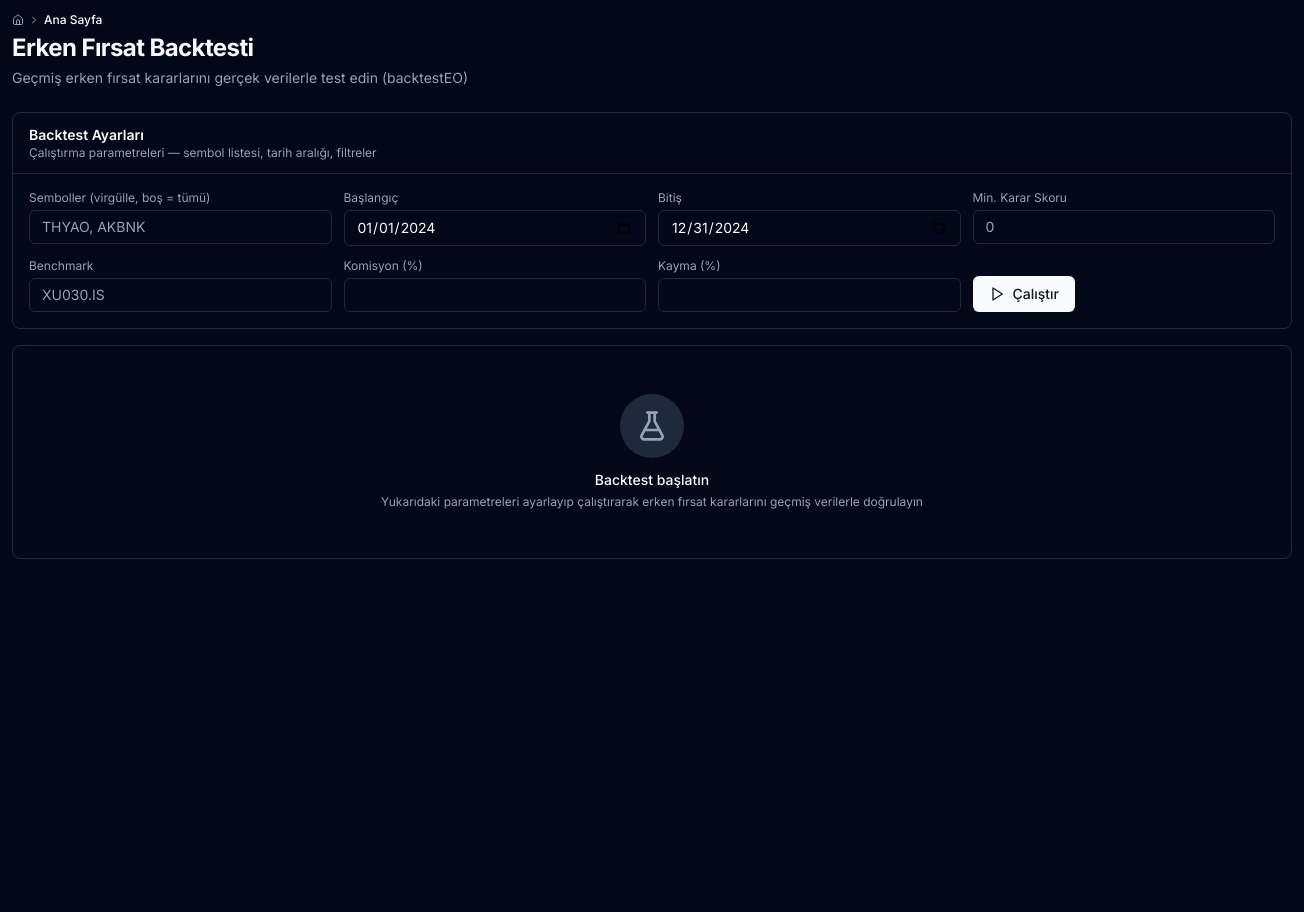
Test: BacktestPage › runs a backtest and renders summary
Click the button with aria-label "Backtest çalıştır": {"x": 1024, "y": 294} [972,276,1075,312]
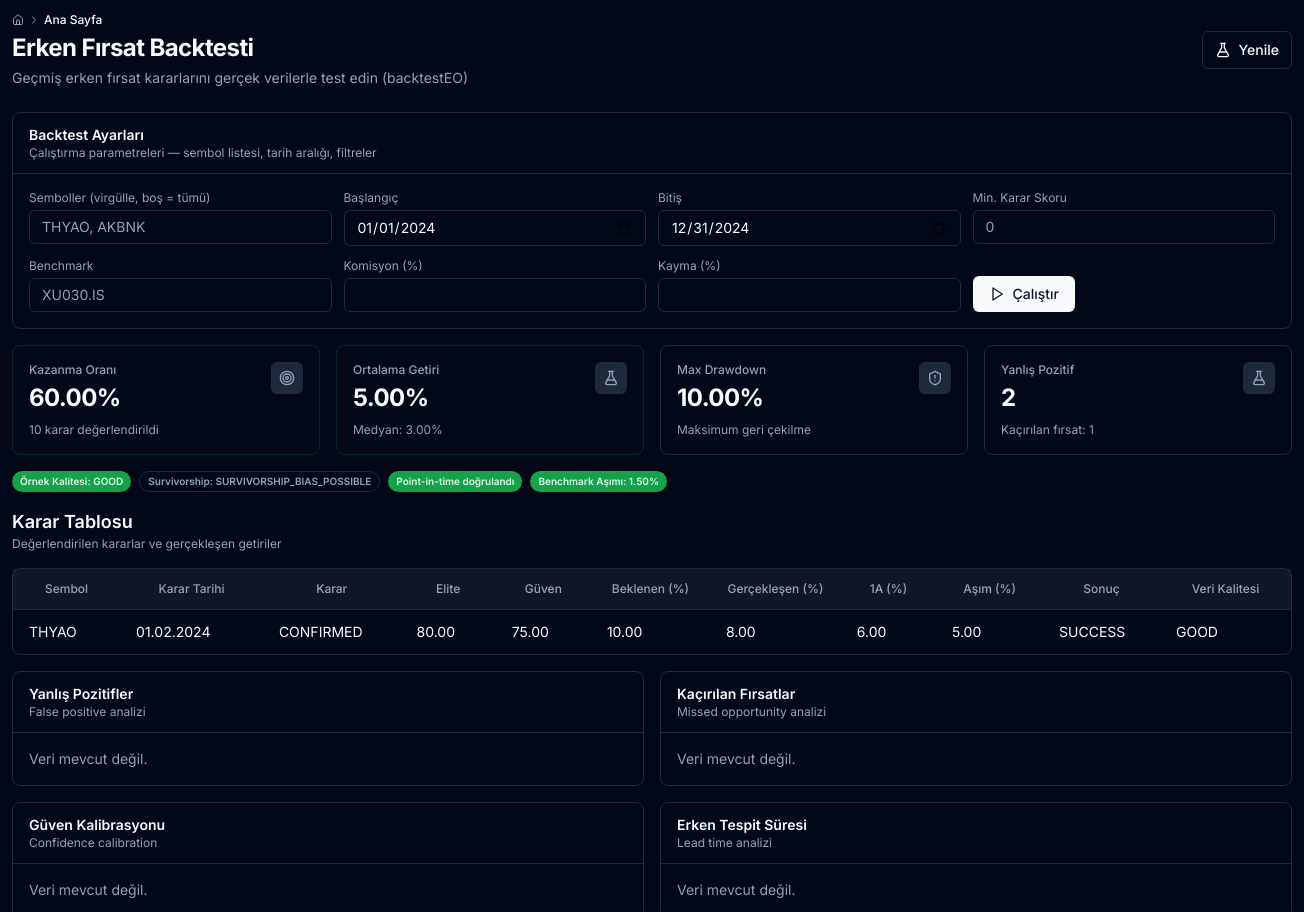
Expected: the text "Kazanma Oranı" is shown, [29,362,120,378]
Expected: the heading "Karar Tablosu" is shown, [12,511,133,532]
Expected: the text "THYAO" is shown, [13,610,120,654]
